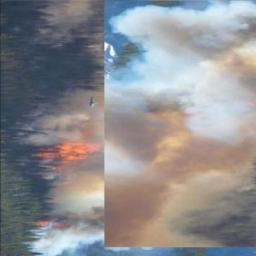Heavy smoke: (110, 1, 255, 246), (31, 88, 106, 138), (54, 171, 107, 212)
Medium fire: (35, 142, 99, 169)
Small fire: (28, 215, 75, 230)
